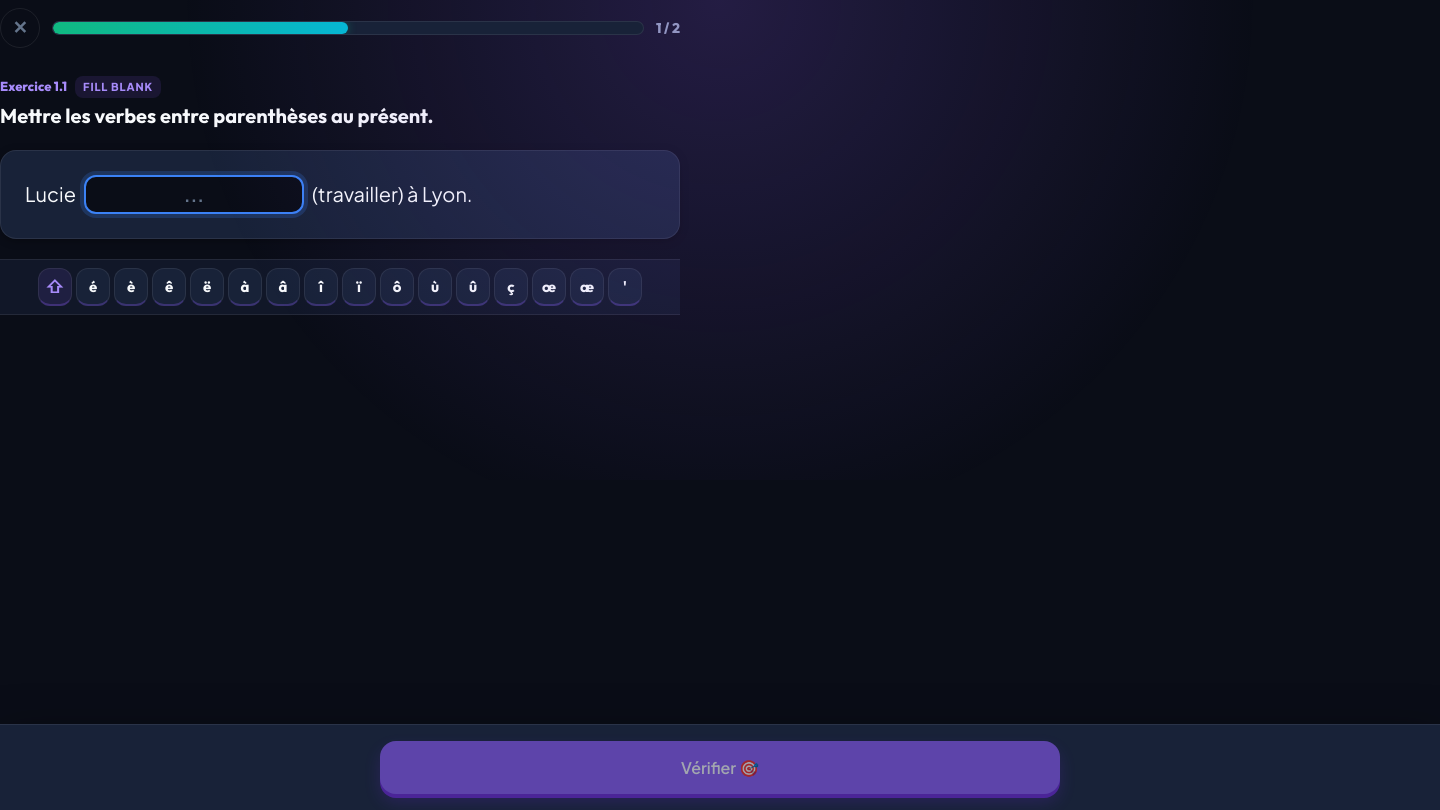
it: ExerciseSession (Orchestrateur) › valida resposta correta, exibe feedback positivo e avança para a próxima questão
Step 1. Type "travaille" into the field named "Mot à compléter" → (194, 194), box [84, 175, 304, 214]
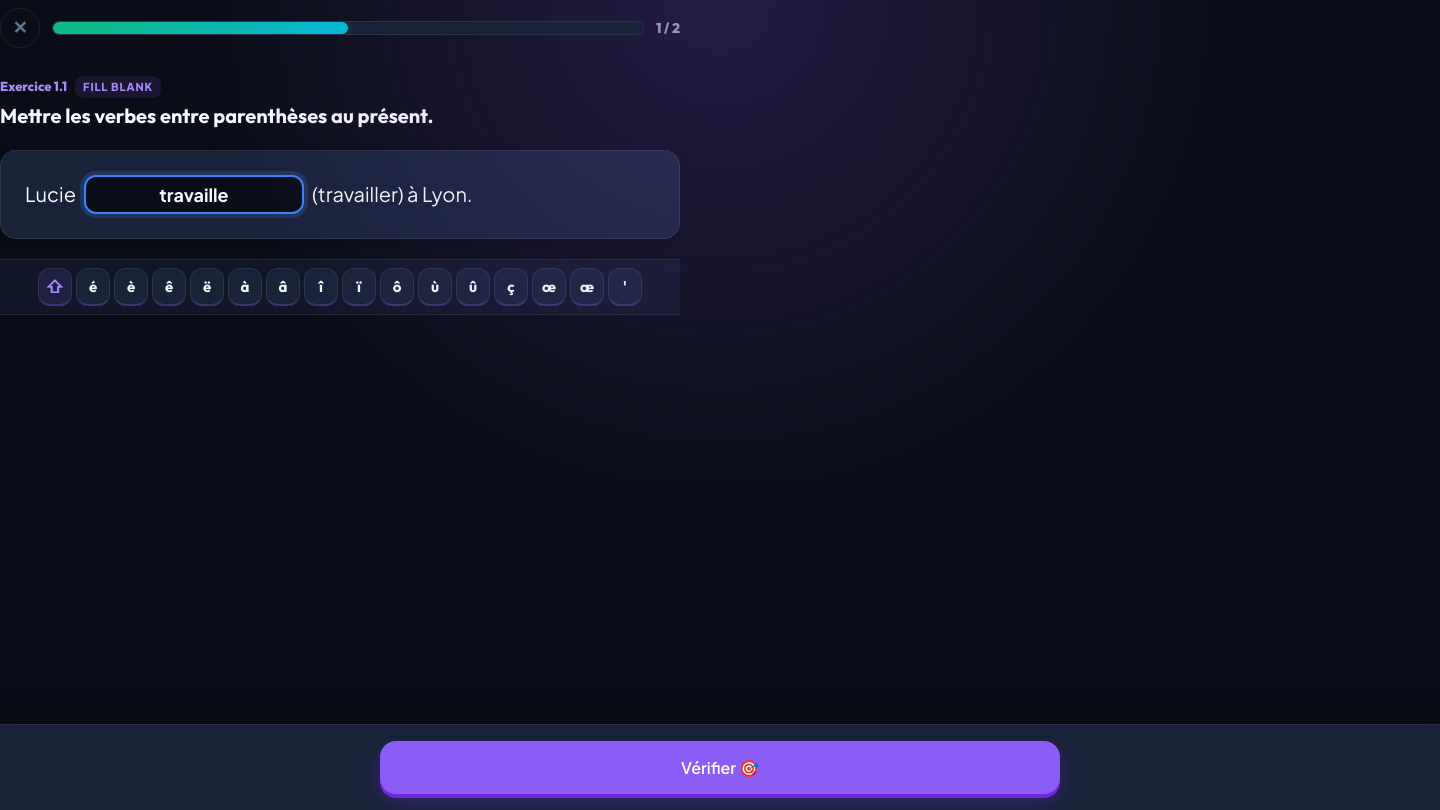
Step 2. Click the button "Vérifier 🎯" → (720, 768), box [380, 741, 1060, 794]
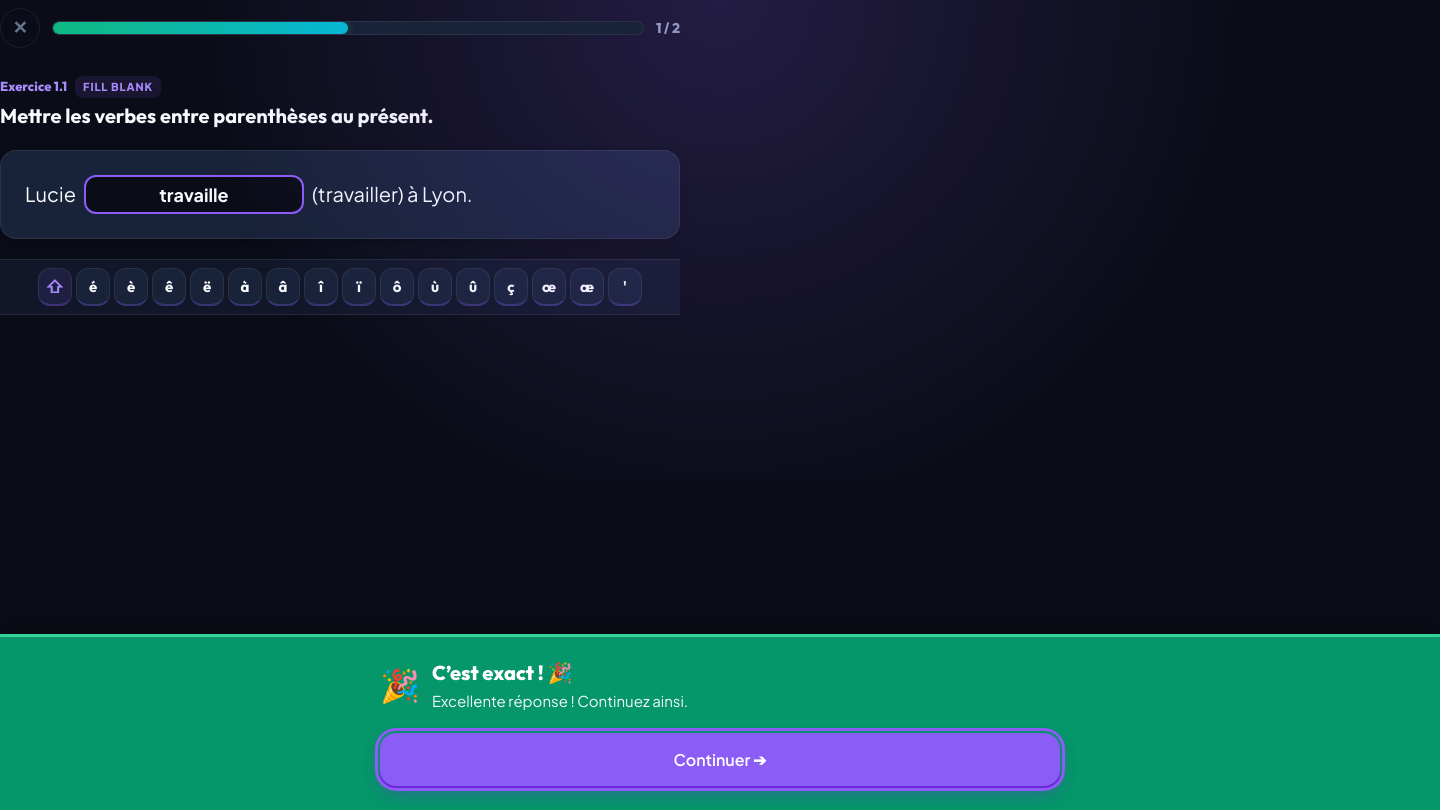
Now the heading "C’est exact ! 🎉" is shown, box [432, 660, 572, 685]
# Botão de continuar avança para questão 2
Step 3. Click the button "Continuer ➔" → (720, 760), box [380, 733, 1060, 786]
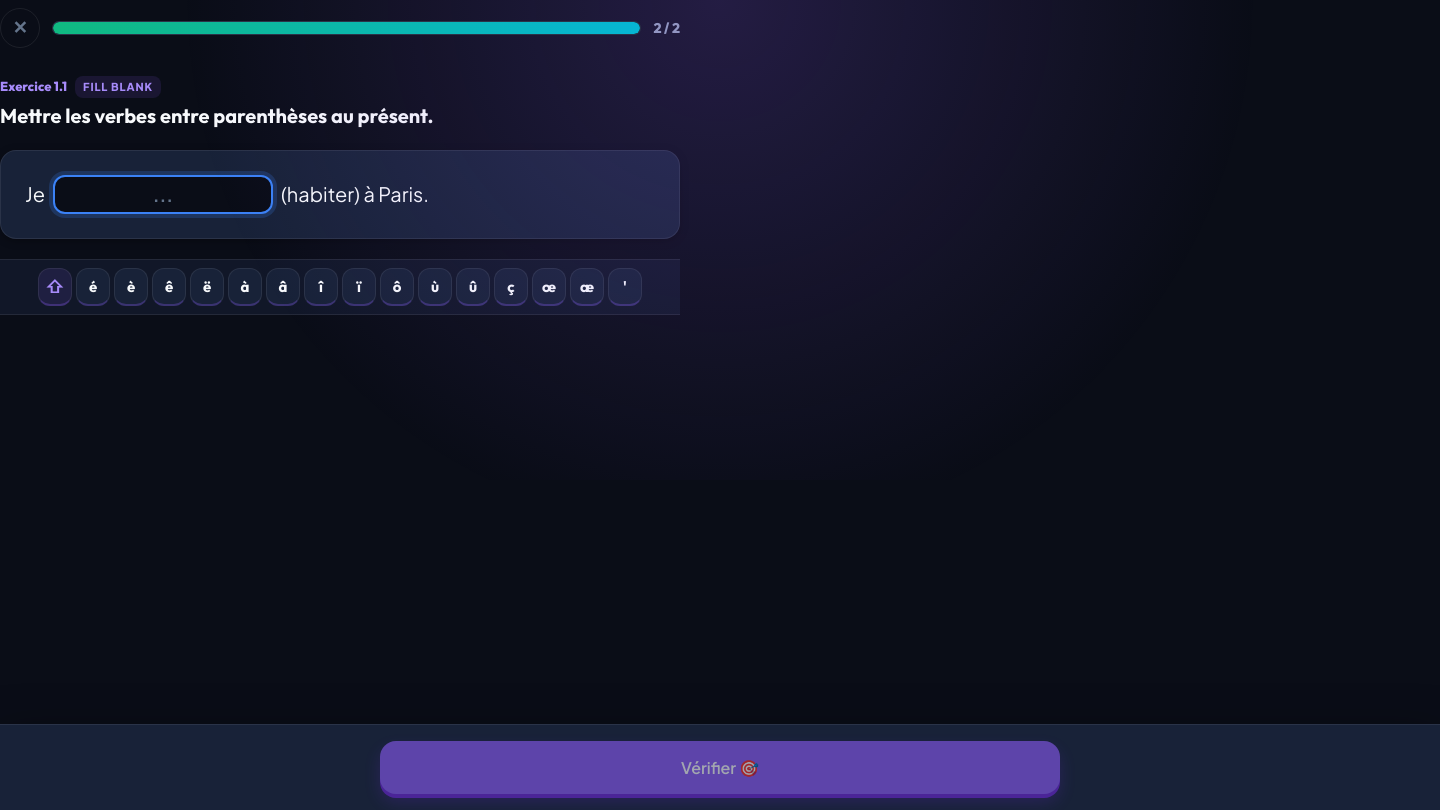
Now the text "2 / 2" is shown, box [653, 17, 680, 39]
Now the text "(habiter) à Paris." is shown, box [281, 176, 429, 212]
